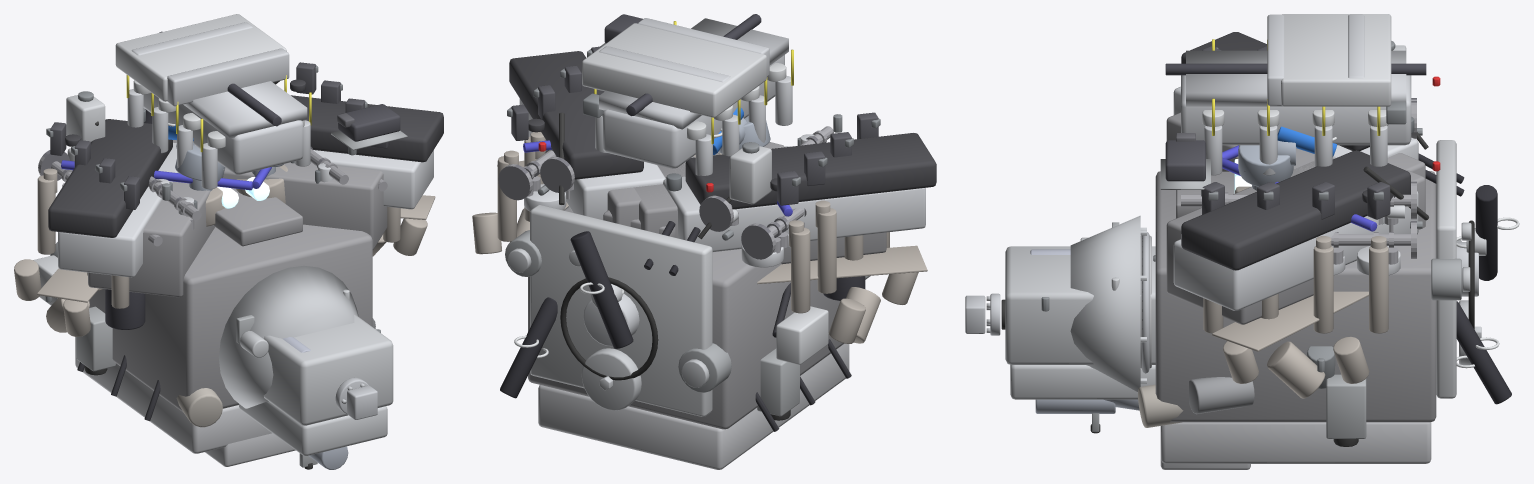
The model's file is Powertrain_V8TT_Animated.glb.
3 views of the same model, side by side, from view 1: azimuth 30°, elevation 25°; view 2: azimuth 150°, elevation 25°; view 3: azimuth 270°, elevation 25° (orthographic). The views are drawn at different scales.
Parts seen in each view (by area): view 1: Engine_V8_Block, Trans_Gearbox_Case, Engine_V8_IntakeManifold, Engine_V8_Intercooler, Engine_V8_ValveCover_L, Trans_Bellhousing, Engine_V8_OilPan, Engine_V8_ValveCover_R, Engine_V8_ExhaustHeader_L, Engine_V8_CylinderHead_L, Engine_V8_WiringHarness, Engine_V8_CylinderHead_R (+11 smaller); view 2: Engine_V8_TimingCover_Accessories, Engine_V8_Block, Engine_V8_Intercooler, Engine_V8_ValveCover_L, Engine_V8_IntakeManifold, Engine_V8_OilPan, Engine_V8_ExhaustHeader_L, Engine_V8_ValveCover_R, Engine_V8_CylinderHead_L, Engine_V8_CoolantSystem, Engine_V8_Valvetrain, Engine_V8_DrySumpSystem (+6 smaller); view 3: Engine_V8_Block, Engine_V8_IntakeManifold, Engine_V8_ValveCover_R, Trans_Gearbox_Case, Engine_V8_ExhaustHeader_R, Engine_V8_Intercooler, Engine_V8_OilPan, Trans_Bellhousing, Engine_V8_CylinderHead_R, Engine_V8_TimingCover_Accessories, Engine_V8_CoolantSystem, Engine_V8_WiringHarness (+11 smaller).
Part boxes in pixels (x1,y1,x2,y2): Engine_V8_Block: (88,140,387,412); Trans_Gearbox_Case: (238,314,393,455); Engine_V8_IntakeManifold: (127,80,310,189); Engine_V8_Intercooler: (115,14,289,106); Engine_V8_ValveCover_L: (46,119,172,237); Trans_Bellhousing: (218,265,358,408); Engine_V8_OilPan: (75,337,295,466); Engine_V8_ValveCover_R: (290,62,443,162); Engine_V8_ExhaustHeader_L: (14,175,129,336); Engine_V8_CylinderHead_L: (43,142,193,277); Engine_V8_WiringHarness: (126,31,407,152); Engine_V8_CylinderHead_R: (310,150,433,209); Engine_V8_TimingCover_Accessories: (505,205,731,416); Engine_V8_Block: (528,142,886,429); Engine_V8_Intercooler: (582,18,769,117); Engine_V8_ValveCover_L: (685,112,936,209); Engine_V8_IntakeManifold: (583,18,792,175); Engine_V8_OilPan: (538,343,849,469); Engine_V8_ExhaustHeader_L: (757,208,927,343); Engine_V8_ValveCover_R: (507,46,643,179); Engine_V8_CylinderHead_L: (663,134,925,267); Engine_V8_CoolantSystem: (500,142,771,398); Engine_V8_Valvetrain: (498,126,833,259); Engine_V8_DrySumpSystem: (755,276,865,431); Engine_V8_Block: (1155,112,1436,422); Engine_V8_IntakeManifold: (1181,50,1411,175); Engine_V8_ValveCover_R: (1181,150,1410,270); Trans_Gearbox_Case: (1001,246,1155,399); Engine_V8_ExhaustHeader_R: (1203,246,1388,398); Engine_V8_Intercooler: (1267,14,1391,106); Engine_V8_OilPan: (1160,422,1431,469); Trans_Bellhousing: (1070,215,1146,391); Engine_V8_CylinderHead_R: (1173,191,1422,310); Engine_V8_TimingCover_Accessories: (1431,140,1486,398); Engine_V8_CoolantSystem: (1391,41,1519,404); Engine_V8_WiringHarness: (1160,39,1426,189).
Bounding box in the file's own units: 1.03 × 0.88 × 1.11.
